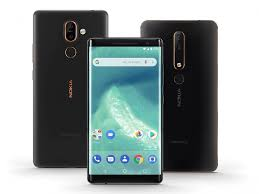nokia: (29, 8, 110, 166), (85, 36, 163, 186)
